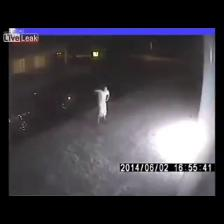person: (95, 87, 109, 123)
